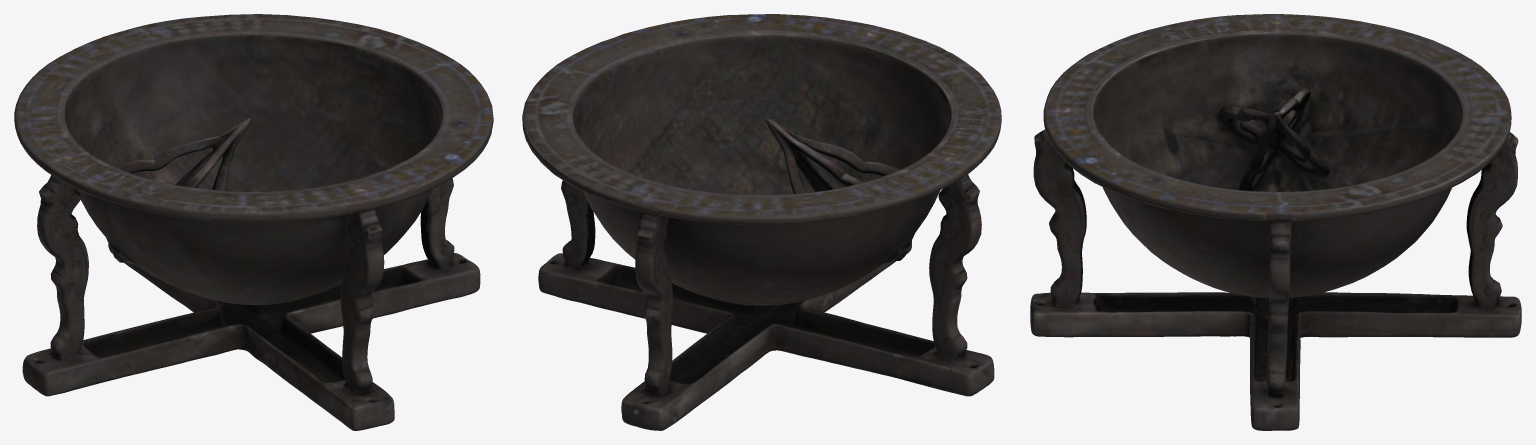
File: angbu.glb
The picture shows the model from 3 angles, left to right: view 1: azimuth 30°, elevation 25°; view 2: azimuth 150°, elevation 25°; view 3: azimuth 270°, elevation 25°; orthographic projection. The views are drawn at different scales.
Parts seen in each view (by area): view 1: Object_2; view 2: Object_2; view 3: Object_2.
Boxes of the visible parts, x1,y1,x2,y2 form: Object_2: (14,14,493,430); Object_2: (522,14,1001,430); Object_2: (1030,14,1521,430).
Size of the model in its own units: 371 by 182 by 369.
Materials: 1 (1 with a texture image).
